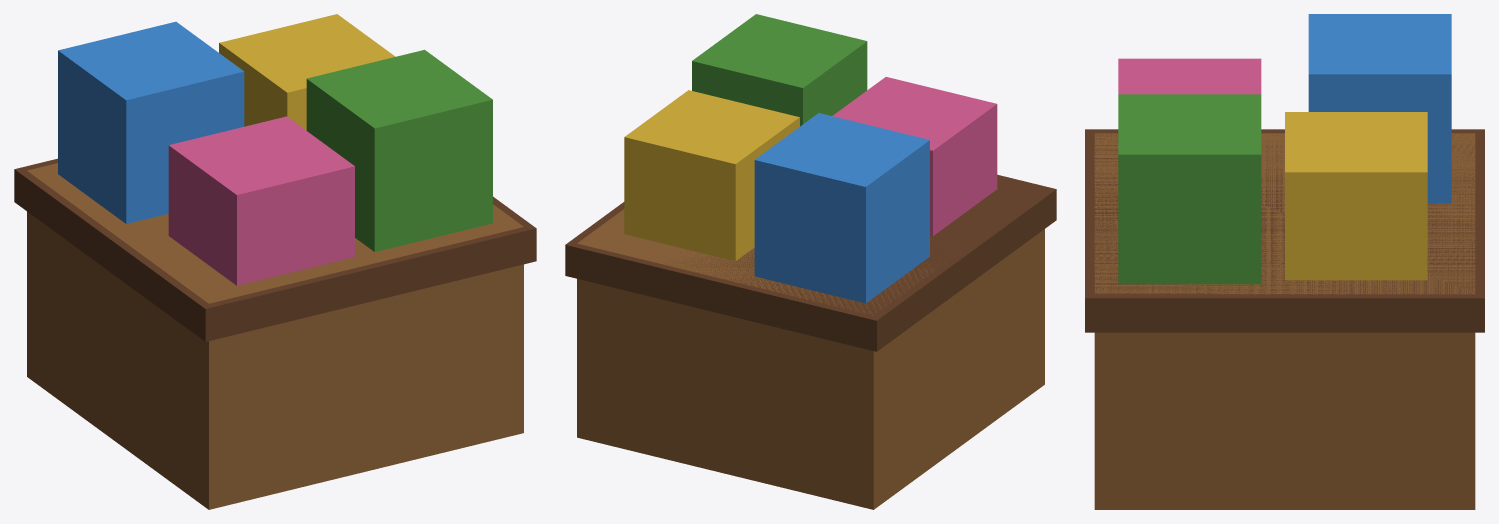
The model's file is th-goods-crate.glb.
3 views of the same model, side by side, from view 1: azimuth 30°, elevation 25°; view 2: azimuth 150°, elevation 25°; view 3: azimuth 270°, elevation 25° (orthographic). The views are drawn at different scales.
Parts seen in each view (by area): view 1: box-prop; view 2: box-prop; view 3: box-prop.
Part boxes in pixels (x1,y1,x2,y2): box-prop: (14, 14, 536, 509); box-prop: (565, 14, 1056, 509); box-prop: (1085, 14, 1484, 509).
Bounding box in the file's own units: 0.84 × 0.8 × 0.84.
